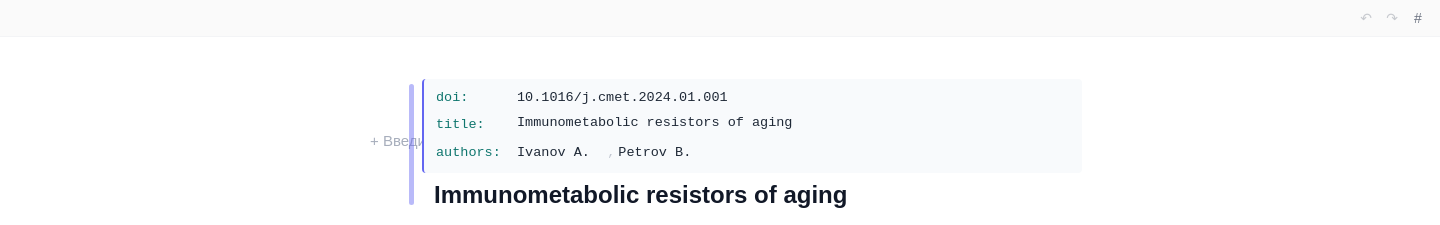
Scenario: YAML-рендер строки «Метаданные» (T1) › правка title в pre обновляет h1
Replace the text in the text box named "Название статьи" with "Другое название" at (794, 125), box left=517, top=111, right=1070, bottom=139
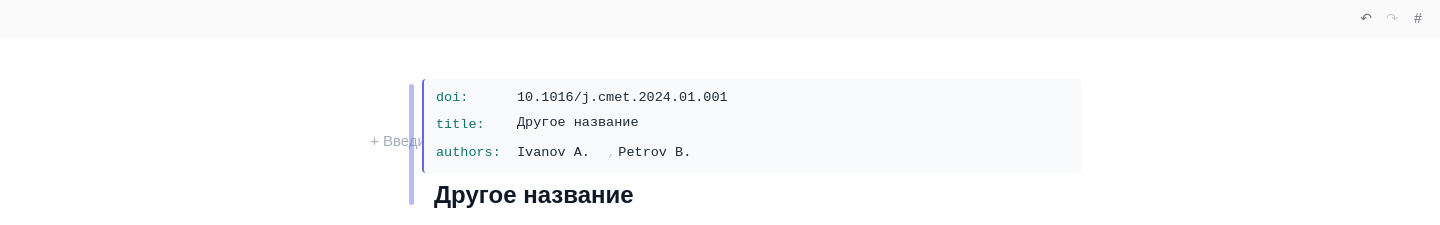
Expected: the heading "Другое название" is shown, left=434, top=181, right=634, bottom=208
